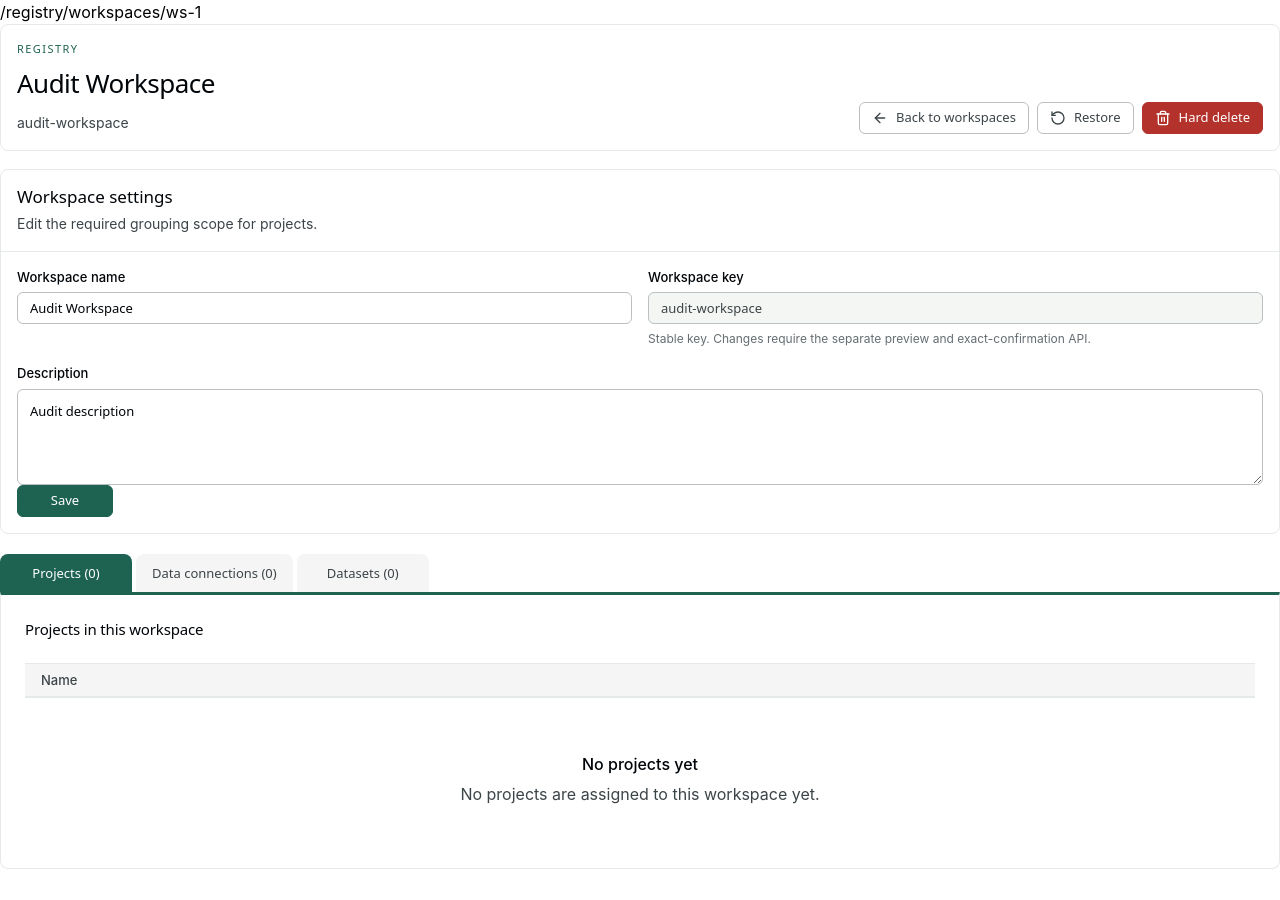
Test case: RegistryWorkspacesDetailPage › opens the lifecycle plan as a real dialog and blocks a plan that cannot run
The image size is (1280, 900).
Click the button "Restore" at (1085, 118), box [1037, 102, 1134, 134]
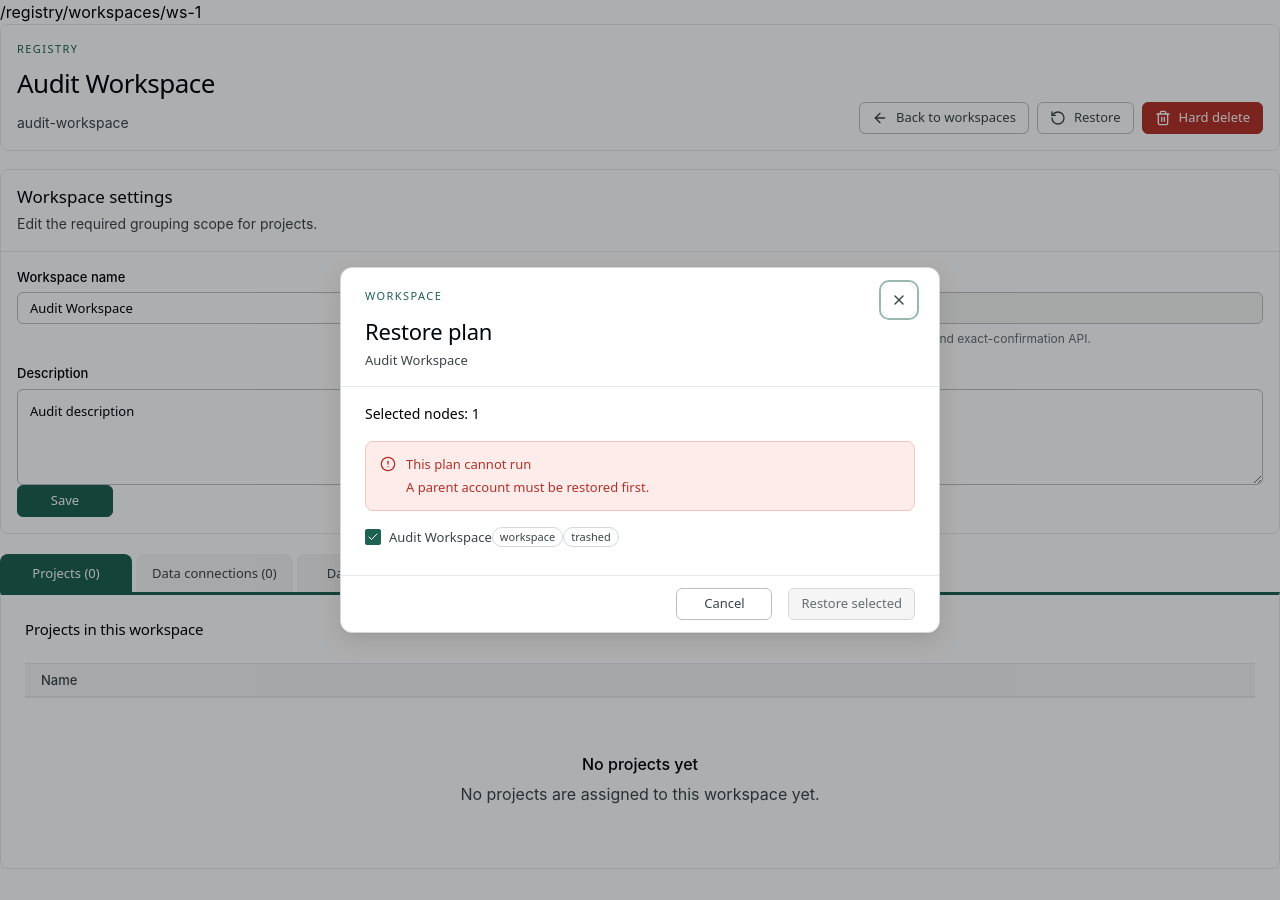
Check: the dialog "Restore plan" is shown, box [340, 267, 940, 633]
Check: the button "Restore selected" is disabled, box [788, 588, 915, 620]
Check: the message shows "A parent account must be restored first.", box [406, 478, 649, 496]
Press Escape
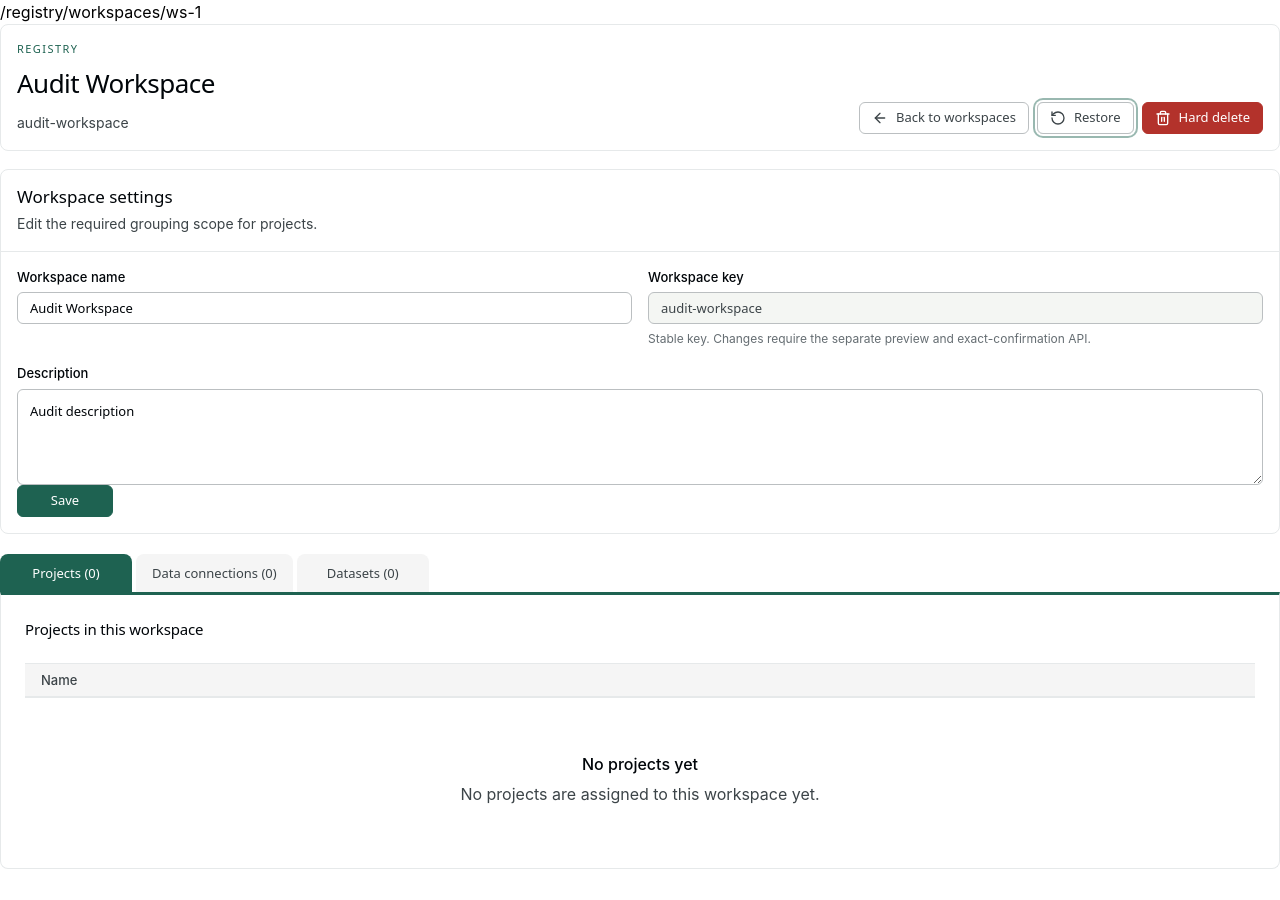
Check: the dialog is gone
